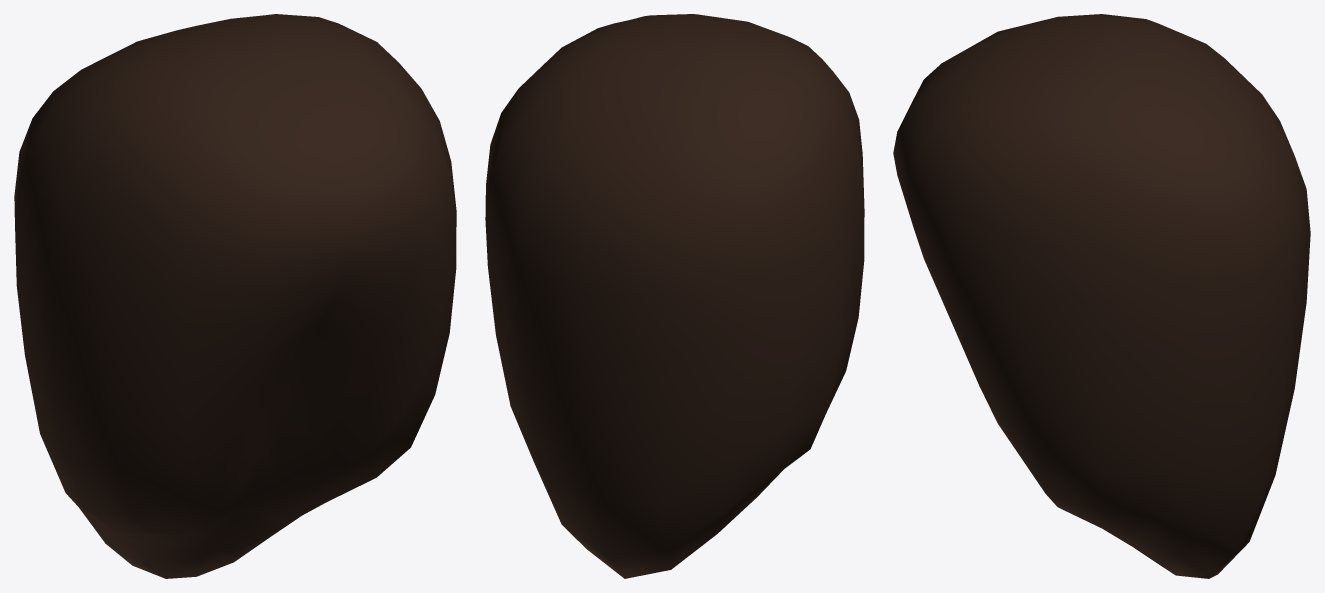
File: Hair3F.glb
3 renders of one model, left to right at view 1: azimuth 30°, elevation 25°; view 2: azimuth 150°, elevation 25°; view 3: azimuth 270°, elevation 25°, orthographic. The views are drawn at different scales.
Visible parts, largest first — view 1: Hair3F.001; view 2: Hair3F.001; view 3: Hair3F.001.
Boxes of the visible parts, x1,y1,x2,y2 form: Hair3F.001: [14, 14, 456, 578]; Hair3F.001: [485, 14, 864, 578]; Hair3F.001: [893, 14, 1310, 578].
Size of the model in its own units: 2.66 by 3.85 by 2.75.
